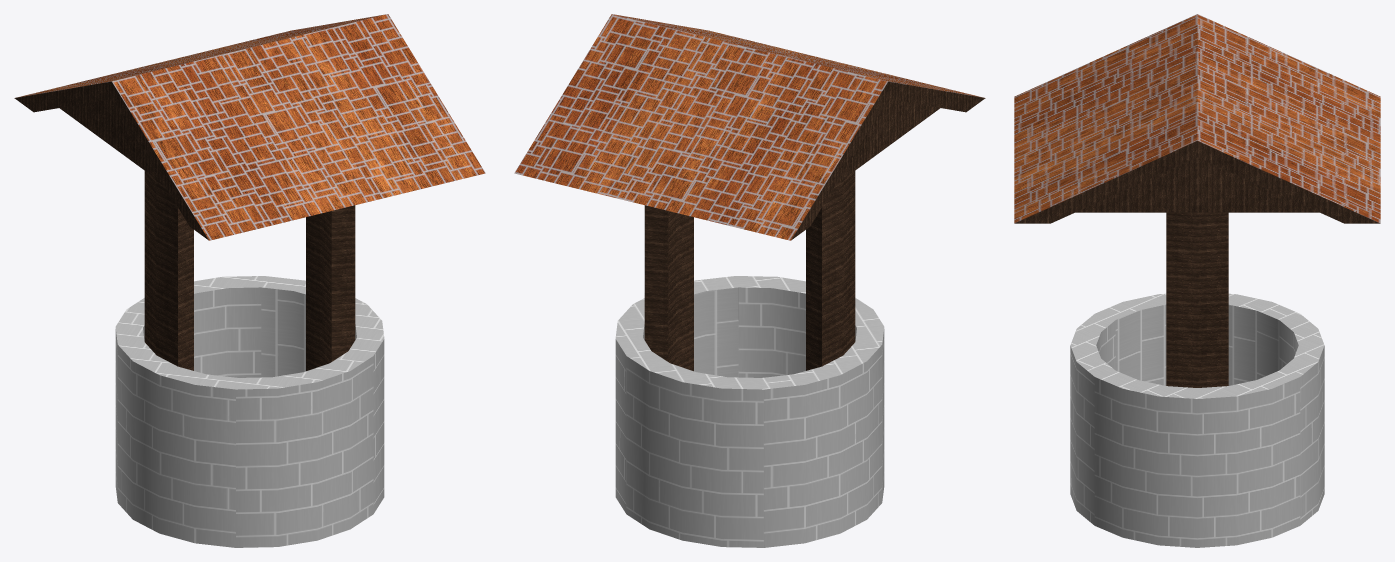
Rendered from Well_10.fbx.
3 views of the same model, side by side, from view 1: azimuth 30°, elevation 25°; view 2: azimuth 150°, elevation 25°; view 3: azimuth 270°, elevation 25° (orthographic). The views are drawn at different scales.
Parts seen in each view (by area): view 1: Well_bottom, Well_top; view 2: Well_bottom, Well_top; view 3: Well_bottom, Well_top.
Boxes of the visible parts, bbox=[...] form: Well_bottom: bbox=[115, 171, 384, 547]; Well_top: bbox=[14, 14, 485, 240]; Well_bottom: bbox=[615, 171, 884, 547]; Well_top: bbox=[514, 14, 985, 240]; Well_bottom: bbox=[1070, 212, 1324, 547]; Well_top: bbox=[1014, 14, 1380, 223].
Size of the model in its own units: 3.68 by 5.65 by 4.5.
